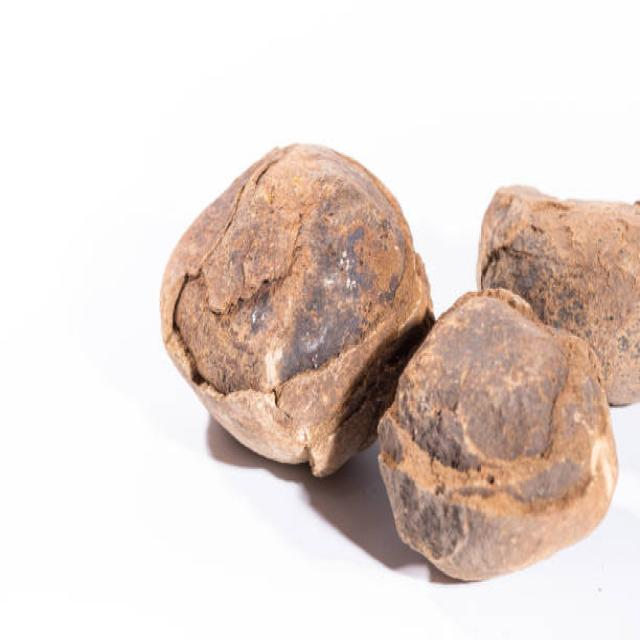Sedimentary: (150, 129, 442, 494), (379, 273, 626, 577), (477, 171, 640, 344)
